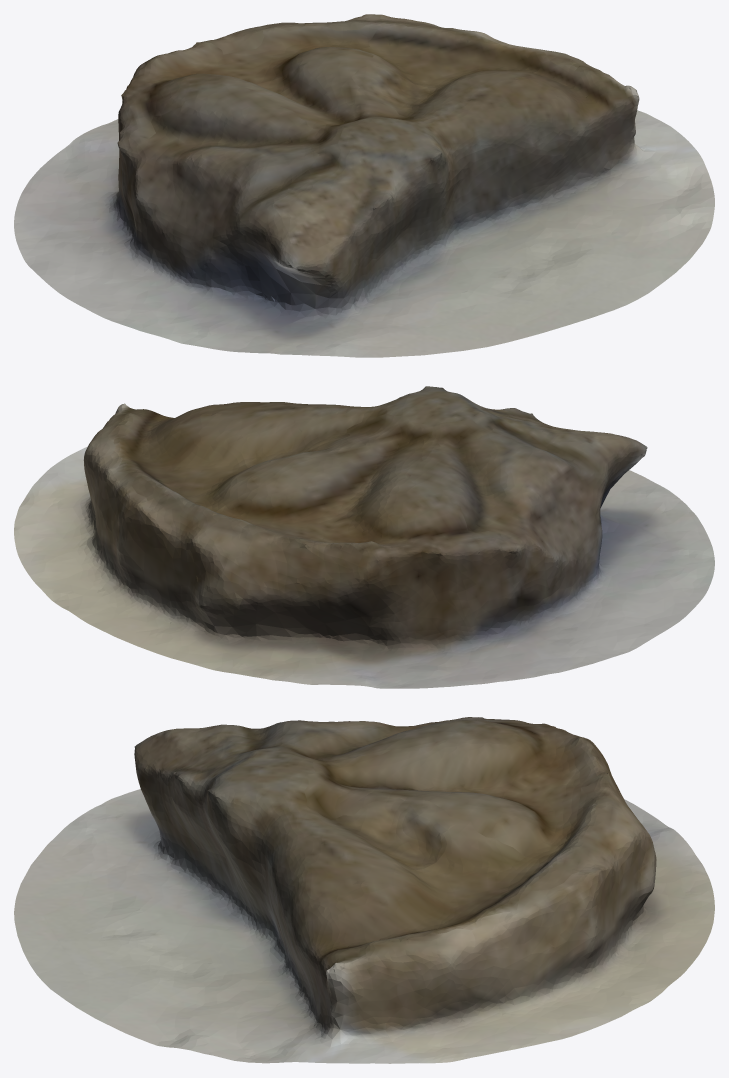
The model's file is Fukakusahaijikawara.glb.
The picture shows the model from 3 angles, top to bottom: view 1: azimuth 30°, elevation 25°; view 2: azimuth 150°, elevation 25°; view 3: azimuth 270°, elevation 25°; orthographic projection. The views are drawn at different scales.
Visible parts, largest first — view 1: mesh; view 2: mesh; view 3: mesh.
Boxes of the visible parts, box(x1,y1,x2,y2) form: mesh: box(14, 14, 714, 357); mesh: box(14, 386, 714, 688); mesh: box(14, 717, 714, 1063).
Bounding box in the file's own units: 0.1769 × 0.0346 × 0.1613.
1 material, 1 textured.
